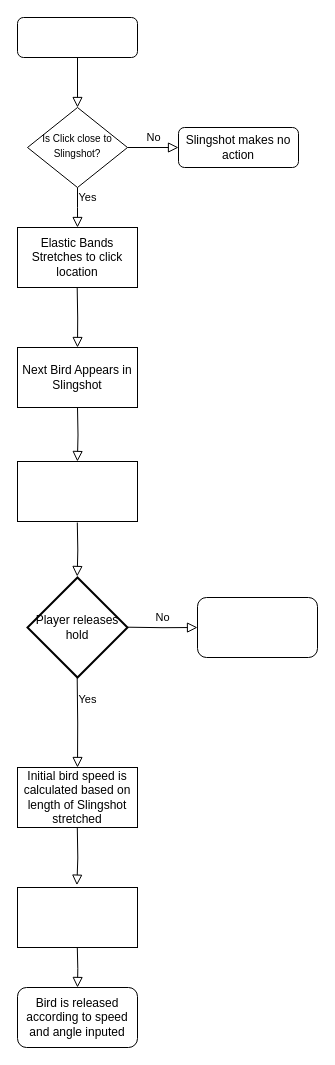
The diagram is 335 pixels wide and 1065 high, and some of its shapes have lost their labels. The shapes that lost their labels are listed below. From the top down, each one's centre as x and y in pixels, then its label:
(x=77, y=37): Player Left Clicks and holds
(x=77, y=491): Slingshot makes stretched sound
(x=257, y=627): Slingshot stays in stretched state
(x=77, y=917): Angle of projection is calculated
